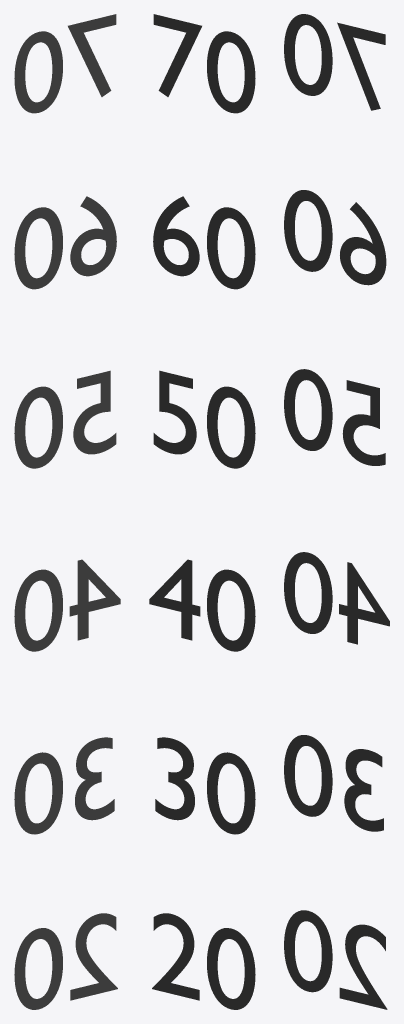
File: numbers.glb
3 views of the same model, side by side, from view 1: azimuth 30°, elevation 25°; view 2: azimuth 150°, elevation 25°; view 3: azimuth 330°, elevation 25° (orthographic).
Visible parts, largest first — view 1: Text.004, Text.002, Text.003, Text, Text.001, Text.005; view 2: Text.004, Text.002, Text.003, Text, Text.001, Text.005; view 3: Text.004, Text.003, Text.002, Text, Text.001, Text.005.
Boxes of the visible parts, <box> form: Text.004: <box>14,196,116,289</box>; Text.002: <box>14,559,120,651</box>; Text.003: <box>14,370,116,468</box>; Text: <box>14,913,117,1009</box>; Text.001: <box>14,737,114,834</box>; Text.005: <box>14,14,116,113</box>; Text.004: <box>153,196,255,289</box>; Text.002: <box>149,559,255,651</box>; Text.003: <box>153,370,255,468</box>; Text: <box>152,913,255,1009</box>; Text.001: <box>155,737,255,834</box>; Text.005: <box>153,14,255,113</box>; Text.004: <box>284,190,386,285</box>; Text.003: <box>284,369,385,465</box>; Text.002: <box>284,552,389,644</box>; Text: <box>284,910,387,1009</box>; Text.001: <box>284,735,383,831</box>; Text.005: <box>284,14,385,110</box>.
Size of the model in its own units: 0.1195 by 1.05 by 2.37e-08.
Materials: 1 (1 with a texture image).
